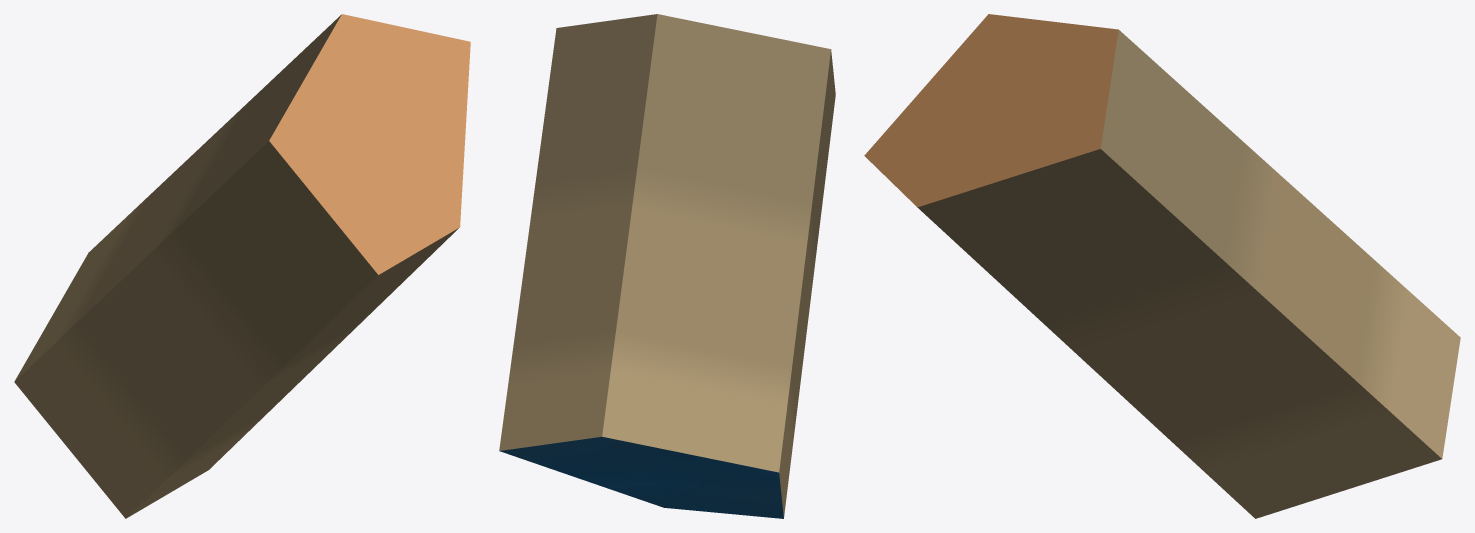
Rendered from 0686_Malta.glb.
The picture shows the model from 3 angles, left to right: view 1: azimuth 30°, elevation 25°; view 2: azimuth 150°, elevation 25°; view 3: azimuth 270°, elevation 25°; orthographic projection. The views are drawn at different scales.
Visible parts, largest first — view 1: part_0; view 2: part_0; view 3: part_0.
Part boxes in pixels (x1,y1,x2,y2): part_0: (14,14,470,518); part_0: (499,14,835,518); part_0: (864,14,1460,518).
Size of the model in its own units: 0.1643 by 0.2183 by 0.2222.
1 material, 1 textured.
